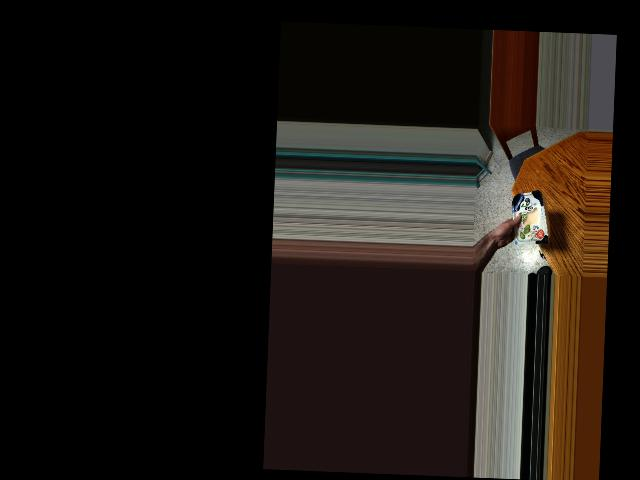cheese: (500, 189, 553, 248)
